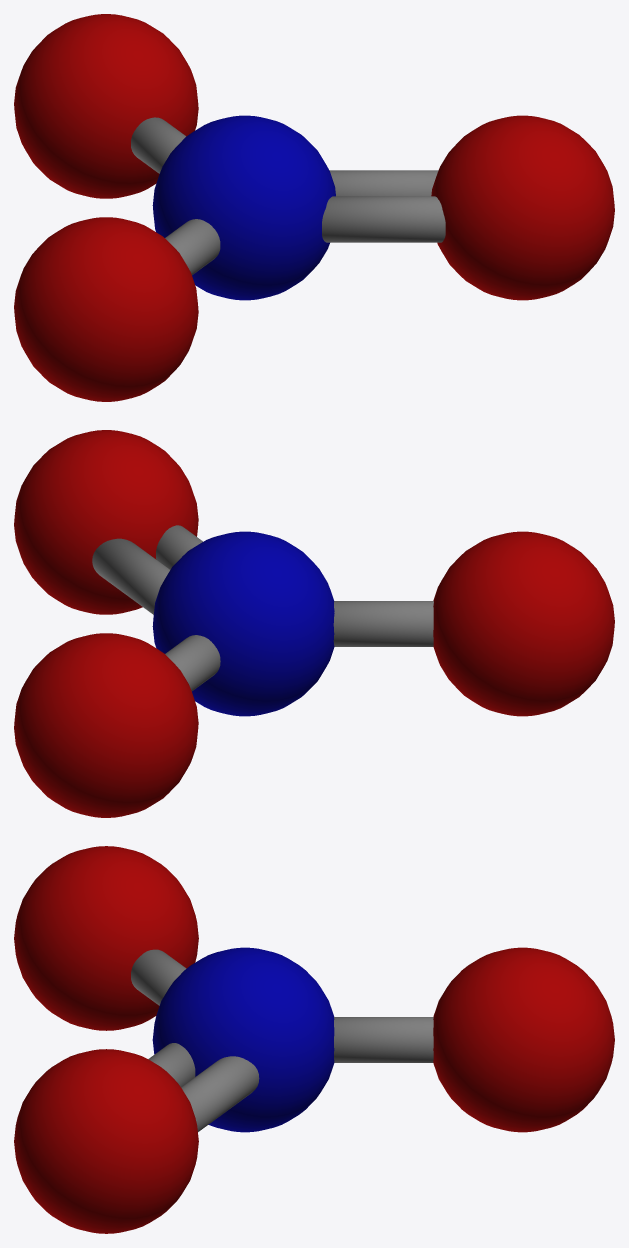
The picture shows the model from 3 angles, top to bottom: view 1: azimuth 30°, elevation 25°; view 2: azimuth 150°, elevation 25°; view 3: azimuth 270°, elevation 25°; orthographic projection.
Visible parts, largest first — view 1: Esfera.003, Esfera.002, Esfera.001, Esfera, Cilindro.001, Cilindro.003, Cilindro.002, Cilindro; view 2: Esfera.001, Esfera.003, Esfera, Esfera.002, Cilindro.002, Cilindro.003, Cilindro, Cilindro.001; view 3: Esfera.002, Esfera.001, Esfera.003, Esfera, Cilindro, Cilindro.003, Cilindro.002, Cilindro.001.
Boxes of the visible parts, x1,y1,x2,y2 form: Esfera.003: [14, 217, 198, 401]; Esfera.002: [431, 115, 614, 300]; Esfera.001: [14, 14, 198, 198]; Esfera: [152, 115, 335, 300]; Cilindro.001: [322, 196, 445, 242]; Cilindro.003: [329, 170, 438, 196]; Cilindro.002: [165, 219, 220, 275]; Cilindro: [131, 117, 185, 173]; Esfera.001: [14, 633, 198, 817]; Esfera.003: [433, 531, 614, 716]; Esfera: [152, 531, 334, 716]; Esfera.002: [14, 430, 198, 614]; Cilindro.002: [333, 601, 433, 646]; Cilindro.003: [92, 538, 169, 614]; Cilindro: [165, 635, 220, 691]; Cilindro.001: [156, 525, 202, 569]; Esfera.002: [14, 1049, 198, 1233]; Esfera.001: [433, 947, 614, 1132]; Esfera.003: [14, 846, 198, 1030]; Esfera: [152, 947, 334, 1132]; Cilindro: [334, 1017, 433, 1062]; Cilindro.003: [181, 1056, 259, 1131]; Cilindro.002: [131, 949, 186, 1005]; Cilindro.001: [148, 1043, 195, 1087].
Bounding box in the file's own units: 4.32 × 1.2 × 3.9.
